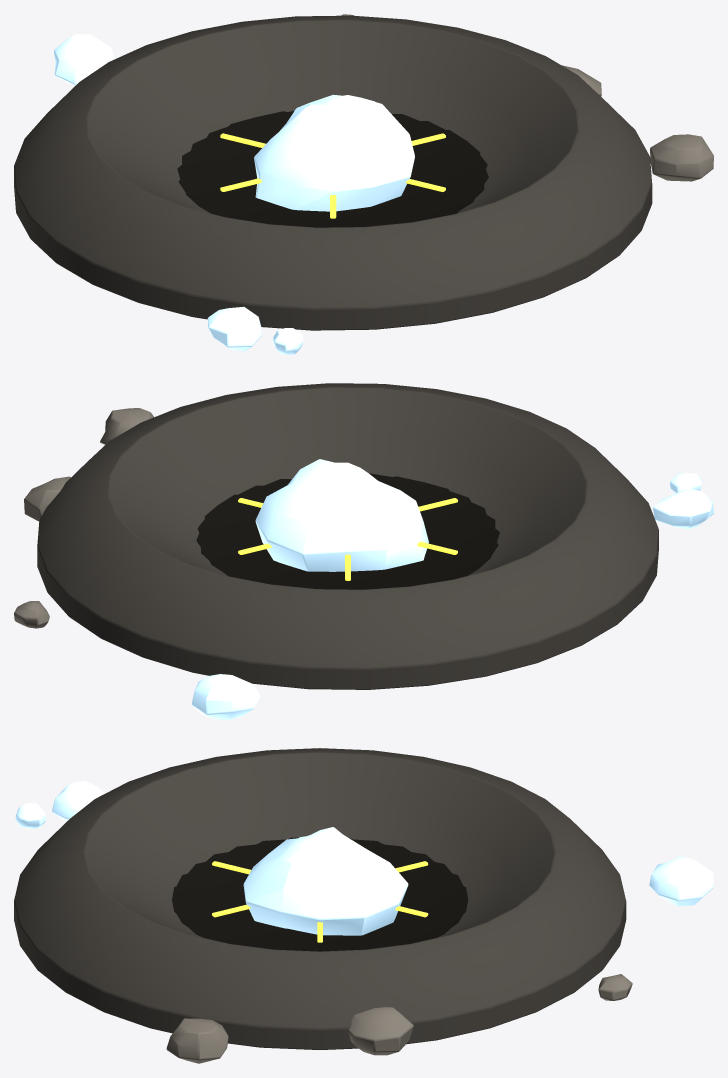
The model's file is kometeneinschlag.fbx.
The picture shows the model from 3 angles, top to bottom: view 1: azimuth 30°, elevation 25°; view 2: azimuth 150°, elevation 25°; view 3: azimuth 270°, elevation 25°; orthographic projection. The views are drawn at different scales.
Visible parts, largest first — view 1: kometeneinschlag_Koerper; view 2: kometeneinschlag_Koerper; view 3: kometeneinschlag_Koerper.
Boxes of the visible parts, x1,y1,x2,y2 form: kometeneinschlag_Koerper: (14,14,713,354); kometeneinschlag_Koerper: (14,383,713,719); kometeneinschlag_Koerper: (14,748,713,1063).
Bounding box in the file's own units: 5.53 × 1.04 × 5.95.
